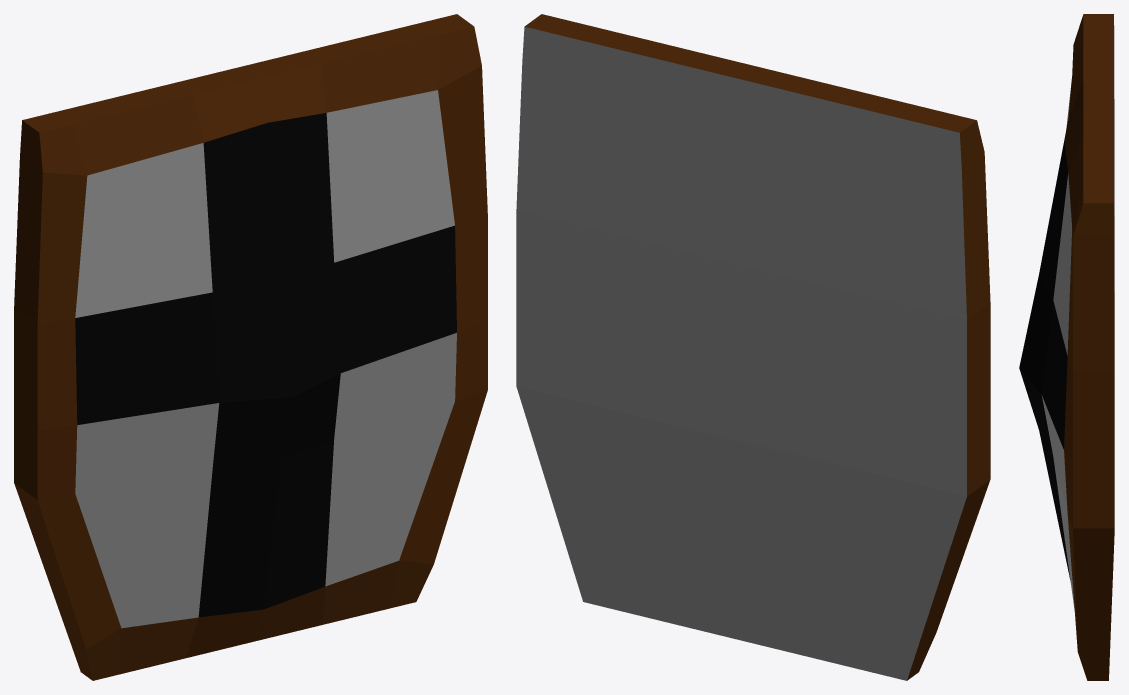
File: shield_cross.obj
3 renders of one model, left to right at view 1: azimuth 30°, elevation 25°; view 2: azimuth 150°, elevation 25°; view 3: azimuth 270°, elevation 25°, orthographic. The views are drawn at different scales.
Visible parts, largest first — view 1: shield_cross; view 2: shield_cross; view 3: shield_cross.
Part boxes in pixels (left/top/right/bottom): shield_cross: left=14, top=14, right=487, bottom=680; shield_cross: left=516, top=14, right=990, bottom=680; shield_cross: left=1019, top=14, right=1114, bottom=680.
Size of the model in its own units: 0.194 by 0.232 by 0.04.
